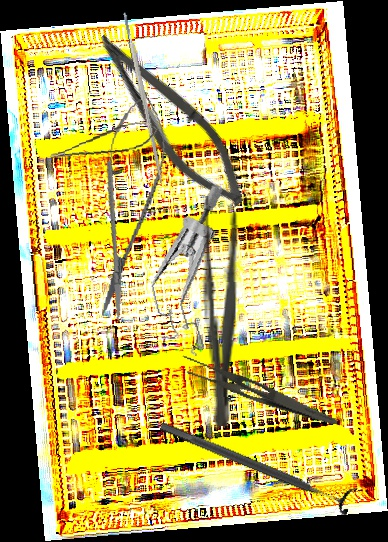Dressing Forceps: (175, 352, 344, 427), (198, 195, 244, 427)
Fixation Ring: (155, 410, 358, 518)
Micro Scissor: (76, 22, 264, 219), (80, 87, 176, 325), (46, 118, 161, 163)
Scalpel Handle: (121, 11, 166, 184)
Speculum: (129, 182, 259, 365)
